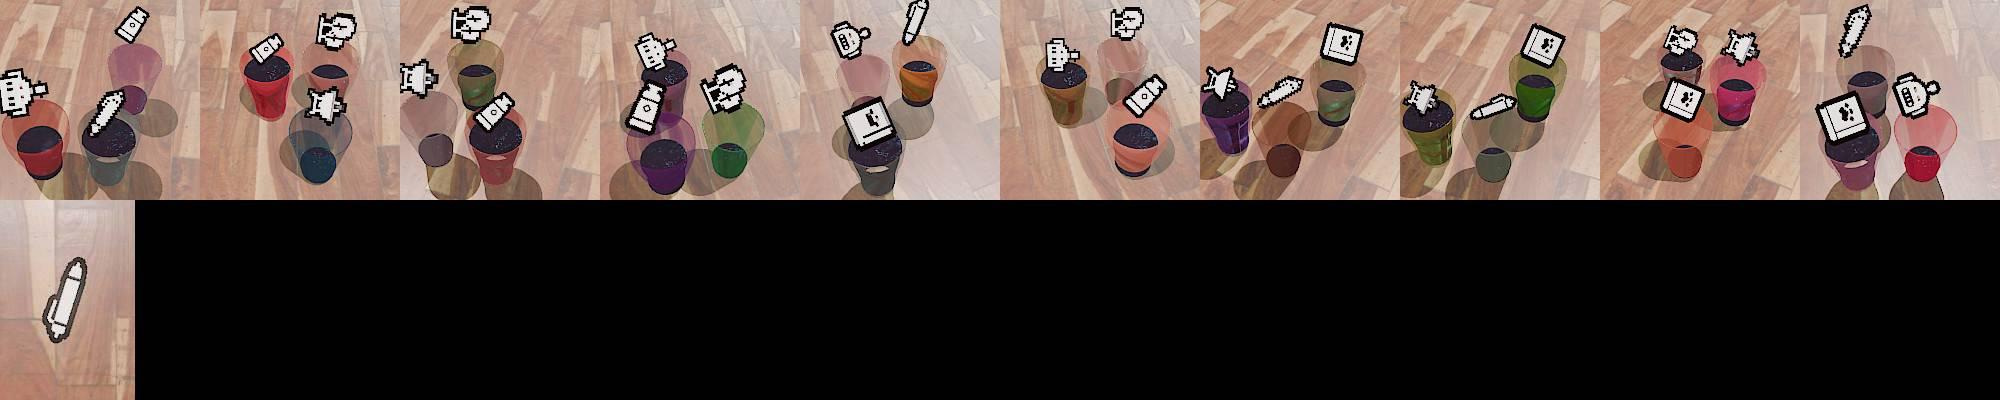icon: (42, 254, 89, 344), (1815, 90, 1872, 146), (841, 96, 898, 150), (700, 64, 747, 116), (622, 82, 667, 136), (0, 68, 48, 117), (1519, 22, 1568, 69), (1892, 73, 1940, 120), (1319, 20, 1365, 66), (1122, 71, 1167, 118), (85, 88, 128, 138), (1659, 78, 1705, 122), (633, 31, 679, 75), (304, 83, 347, 125), (473, 90, 517, 132), (1839, 5, 1872, 59), (829, 20, 871, 62), (1256, 71, 1304, 108), (315, 11, 357, 52), (1721, 28, 1761, 69), (450, 5, 492, 45), (399, 57, 439, 99), (1467, 92, 1518, 122), (115, 5, 151, 46), (1108, 5, 1145, 42), (246, 32, 284, 68), (1404, 79, 1440, 116), (1045, 36, 1079, 74), (1662, 24, 1700, 59), (902, 0, 930, 46), (1203, 65, 1236, 101)
